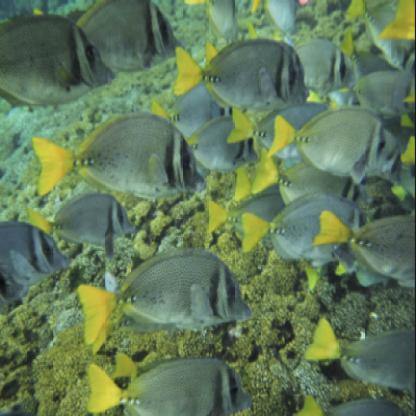Bio: (31, 108, 207, 205), (77, 249, 254, 344), (0, 12, 118, 104), (267, 104, 392, 184), (173, 37, 311, 107), (241, 192, 364, 264), (88, 359, 250, 413), (317, 206, 415, 288), (179, 114, 259, 170)
